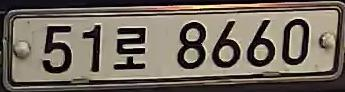0: (276, 14, 317, 68)
1: (77, 19, 109, 75)
5: (35, 21, 78, 75)
6: (241, 15, 280, 68), (209, 18, 245, 71)
8: (172, 16, 210, 72)
로: (109, 22, 152, 74)
